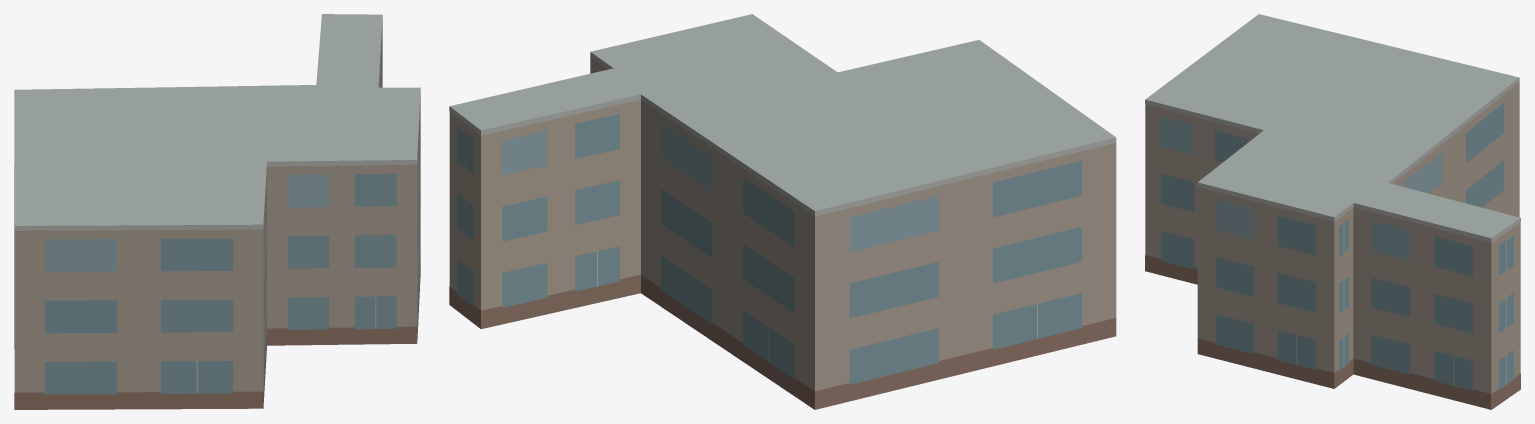
The model's file is survey-upis-32895370.glb.
The picture shows the model from 3 angles, left to right: view 1: azimuth 30°, elevation 25°; view 2: azimuth 150°, elevation 25°; view 3: azimuth 270°, elevation 25°; orthographic projection. The views are drawn at different scales.
Parts seen in each view (by area): view 1: survey-upis-32895370.tmp; view 2: survey-upis-32895370.tmp; view 3: survey-upis-32895370.tmp.
Boxes of the visible parts, x1=… form: survey-upis-32895370.tmp: x1=14, y1=14, x2=420, y2=409; survey-upis-32895370.tmp: x1=449, y1=14, x2=1116, y2=409; survey-upis-32895370.tmp: x1=1145, y1=14, x2=1520, y2=409.
Bounding box in the file's own units: 25.65 × 9.15 × 18.16.
